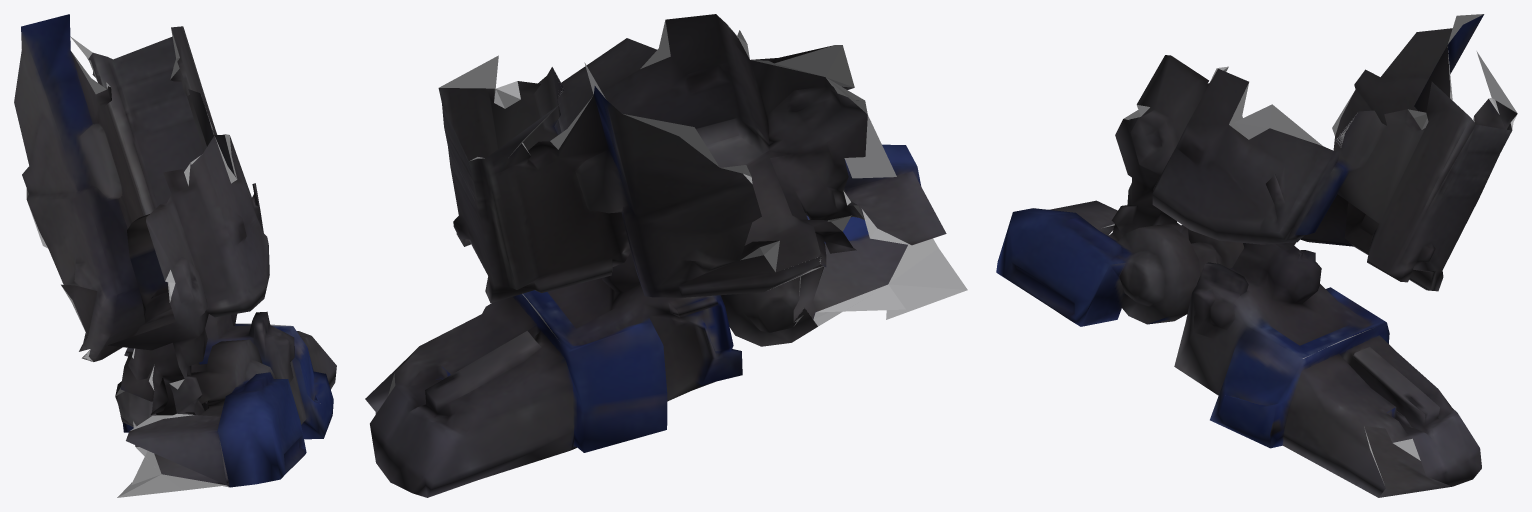
File: blue_leg_right_lower.glb
3 views of the same model, side by side, from view 1: azimuth 30°, elevation 25°; view 2: azimuth 150°, elevation 25°; view 3: azimuth 270°, elevation 25° (orthographic). The views are drawn at different scales.
Visible parts, largest first — view 1: blue_leg_right_lower; view 2: blue_leg_right_lower; view 3: blue_leg_right_lower.
Boxes of the visible parts, bbox=[...] form: blue_leg_right_lower: bbox=[14, 14, 336, 497]; blue_leg_right_lower: bbox=[365, 14, 967, 497]; blue_leg_right_lower: bbox=[996, 14, 1517, 497].
Bounding box in the file's own units: 1.31 × 1.36 × 1.65.
Materials: 1 (1 with a texture image).
